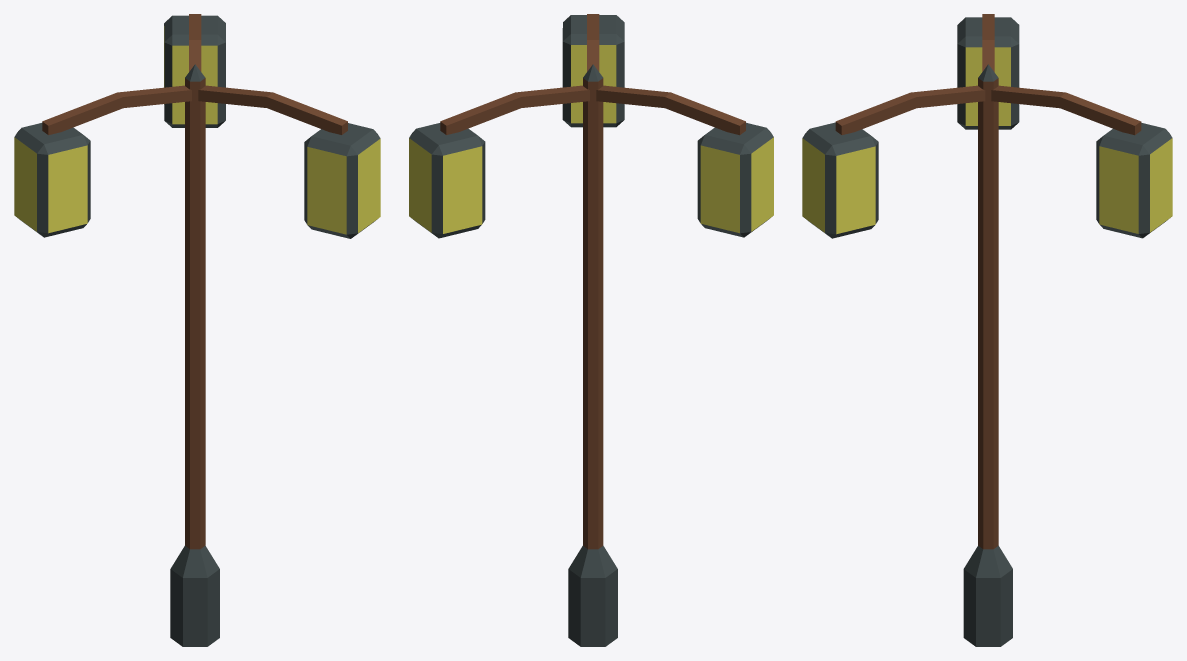
File: Lamp_7_Yellow.fbx
The picture shows the model from 3 angles, left to right: view 1: azimuth 30°, elevation 25°; view 2: azimuth 150°, elevation 25°; view 3: azimuth 270°, elevation 25°; orthographic projection.
Parts seen in each view (by area): view 1: Lamp_7_Yellow; view 2: Lamp_7_Yellow; view 3: Lamp_7_Yellow.
Boxes of the visible parts, left/top/right/bottom form: Lamp_7_Yellow: left=14, top=14, right=380, bottom=646; Lamp_7_Yellow: left=409, top=14, right=773, bottom=646; Lamp_7_Yellow: left=802, top=14, right=1172, bottom=646.
Size of the model in its own units: 155 by 307 by 180.
